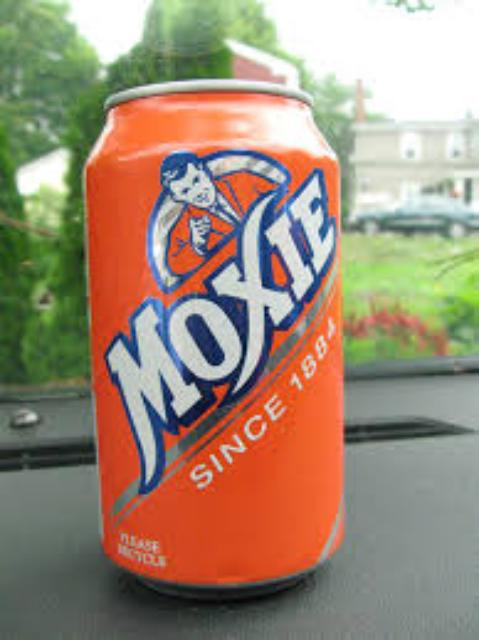metal: (84, 77, 339, 591)
